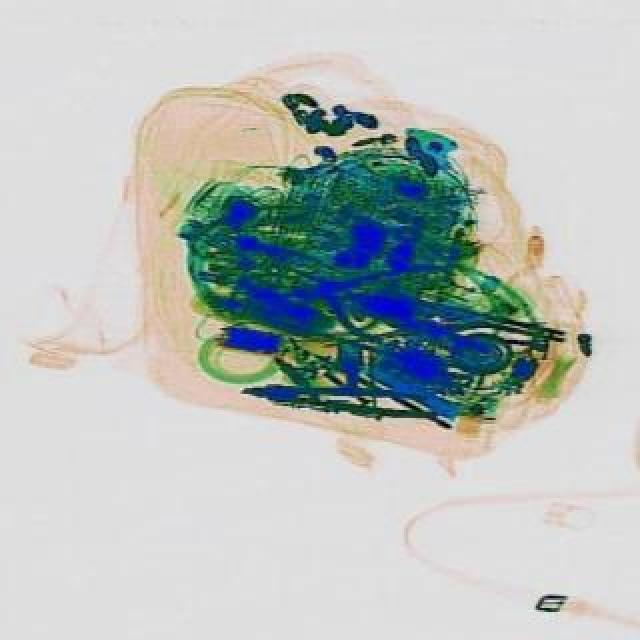wrench: (286, 240, 442, 348), (238, 374, 436, 418)
